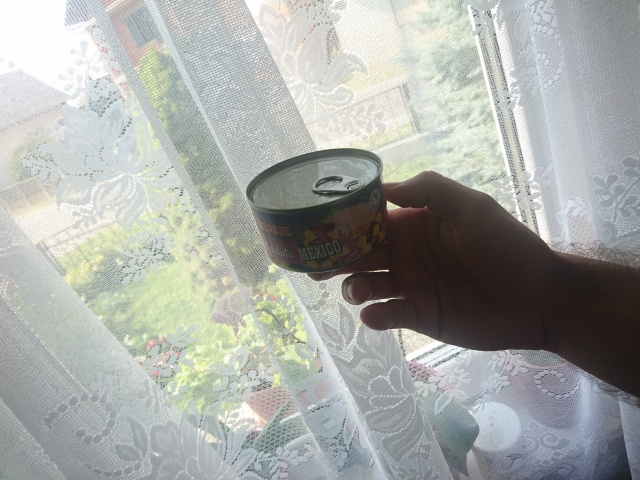Giana Tuna Salad Mexico 185g: (243, 145, 393, 275)
